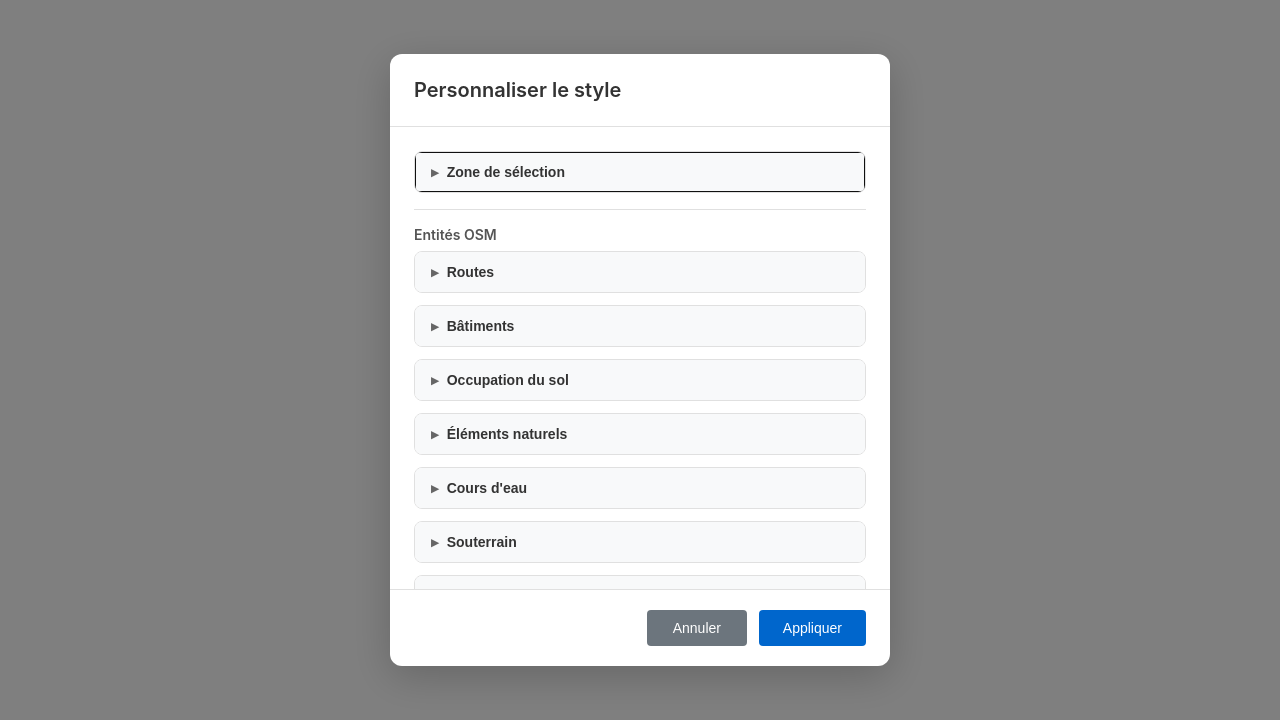
StyleModal border opacity › shows the line opacity as border opacity when the road style has none of its own
Click the button "▶ Routes" at (470,272), box [415,252,865,292]
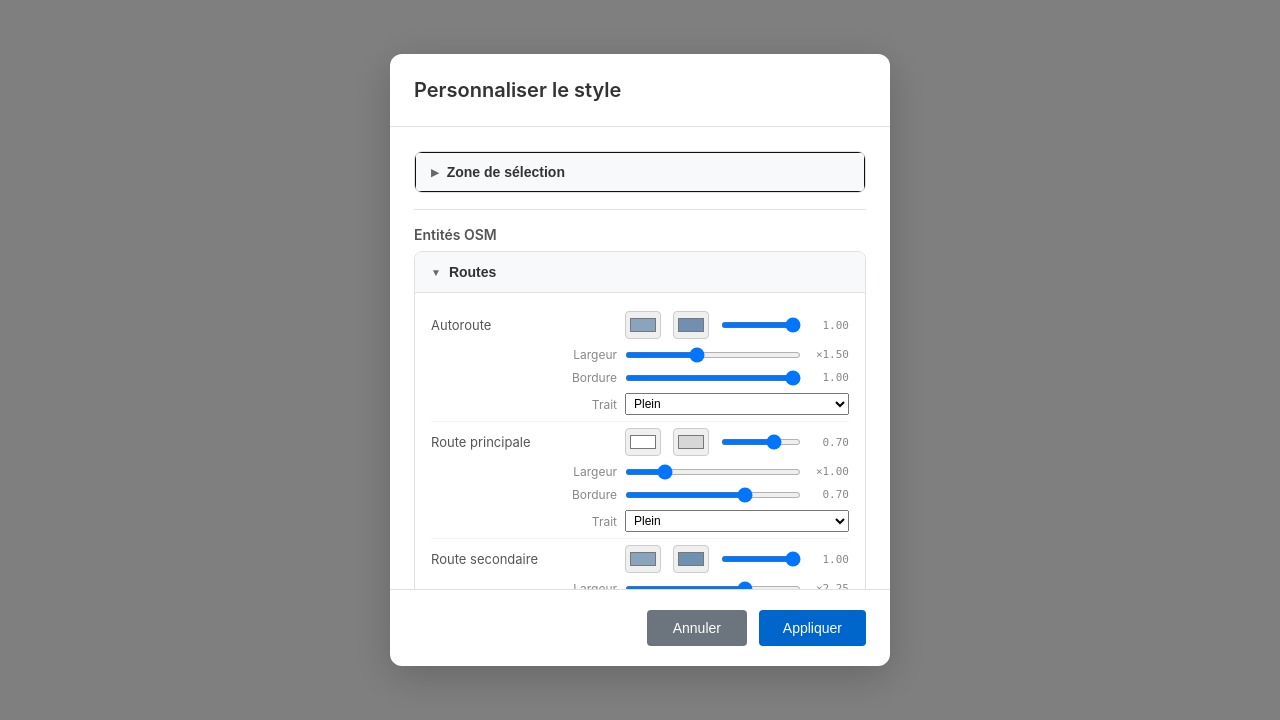
Check: the slider titled "Opacité de la bordure" below "Route principale" holds "0.7", box [625,492,801,498]
